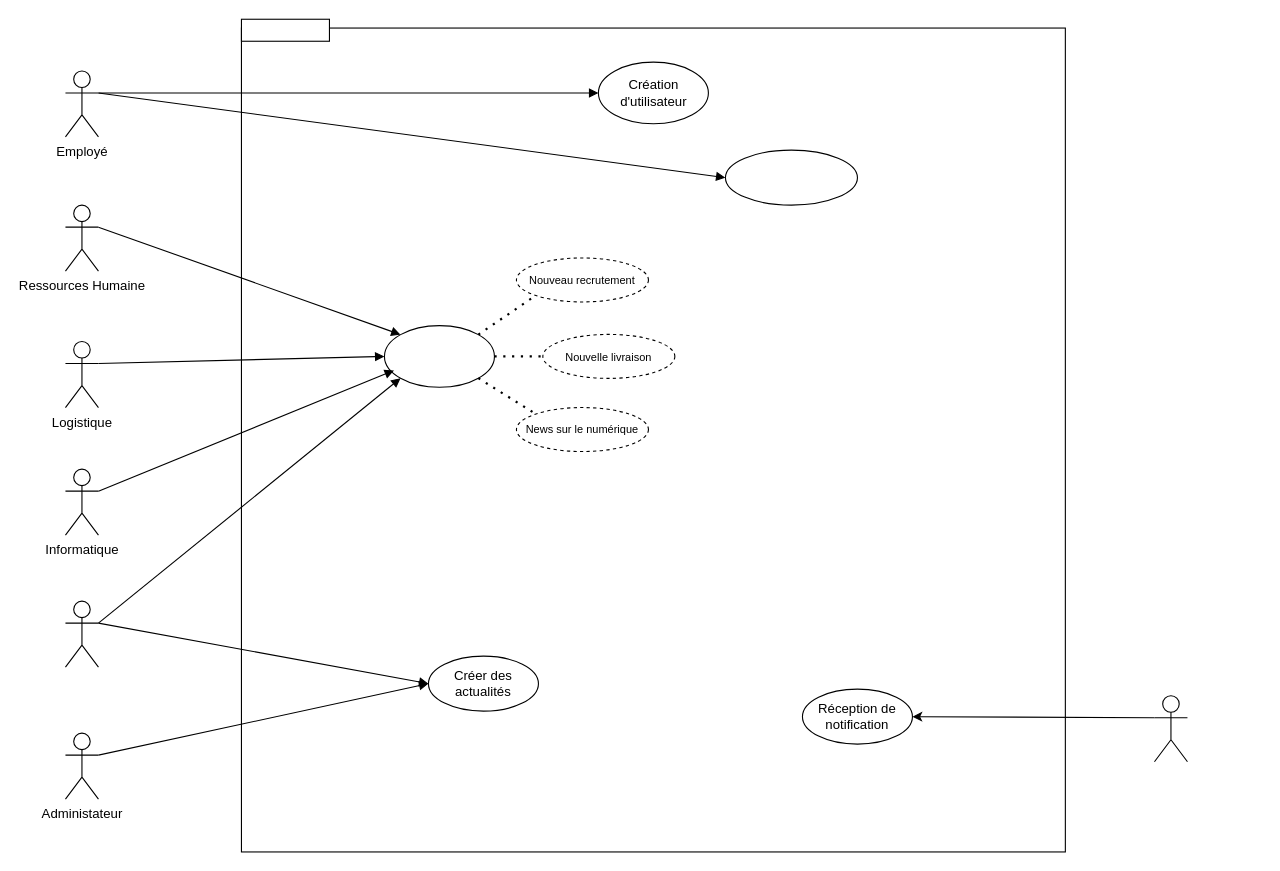
This 1280x871 diagram has some shape labels left out. Here are the shapes that lost their labels. From the top down, the box of each, then its label:
(240, 18, 329, 41): Application
(724, 149, 857, 205): Connexion de l'utilisateur
(383, 324, 494, 387): Consultation des actualités
(64, 600, 98, 667): Communication
(1153, 695, 1187, 762): Utilisateur Authentifié (Informatique, Communication, Logistique, RH,...)
